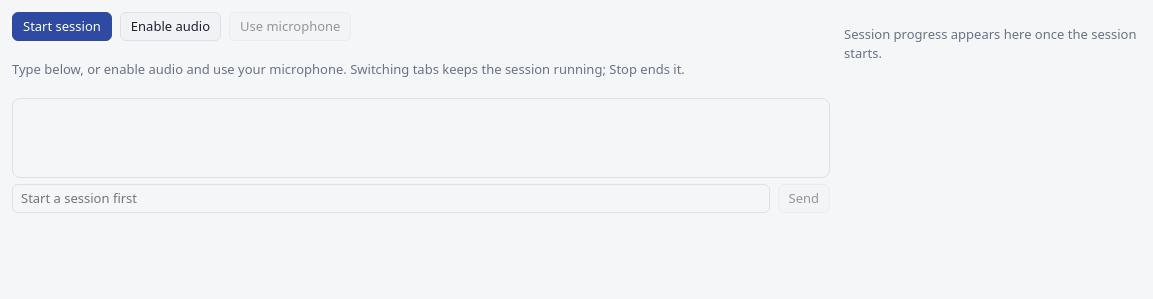
workspace-owned live session › keeps live status off a replay or edited graph and labels the running revision
Click the button "Start session": coordinates (62, 26) left=12, top=12, right=112, bottom=41
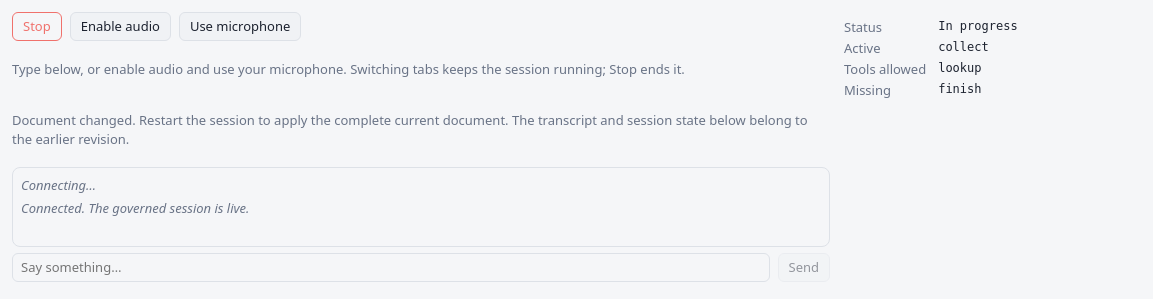
Expected: the text "Restart the session" is shown, left=12, top=111, right=808, bottom=148
